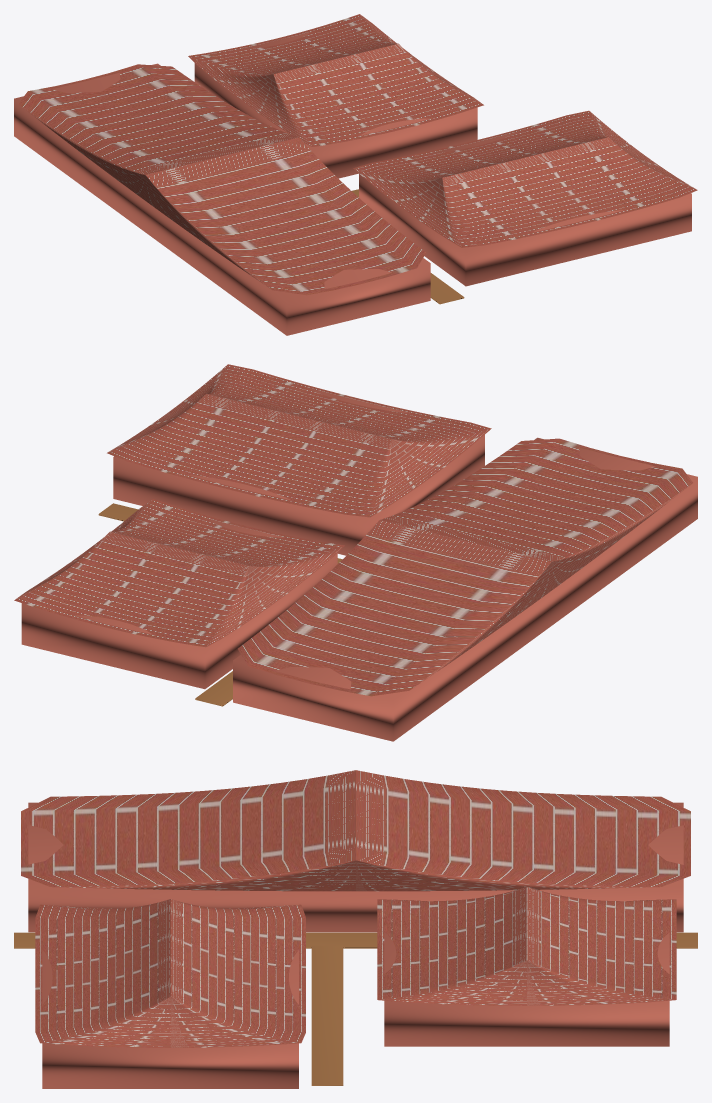
The picture shows the model from 3 angles, top to bottom: view 1: azimuth 30°, elevation 25°; view 2: azimuth 150°, elevation 25°; view 3: azimuth 270°, elevation 25°; orthographic projection. The views are drawn at different scales.
Parts seen in each view (by area): view 1: roofs_simplified, hanoks_simplified, alley_simplified; view 2: roofs_simplified, hanoks_simplified, alley_simplified; view 3: roofs_simplified, hanoks_simplified, alley_simplified.
Boxes of the visible parts, x1=… form: roofs_simplified: x1=18, y1=14, x2=697, y2=295; hanoks_simplified: x1=14, y1=31, x2=691, y2=335; alley_simplified: x1=352, y1=189, x2=464, y2=304; roofs_simplified: x1=14, y1=364, x2=692, y2=696; hanoks_simplified: x1=21, y1=387, x2=697, y2=741; alley_simplified: x1=98, y1=503, x2=342, y2=706; roofs_simplified: x1=21, y1=770, x2=690, y2=1047; hanoks_simplified: x1=28, y1=802, x2=683, y2=1088; alley_simplified: x1=14, y1=932, x2=697, y2=1085.
Bounding box in the file's own units: 41 × 5.8 × 48.
3 materials, 3 textured.
